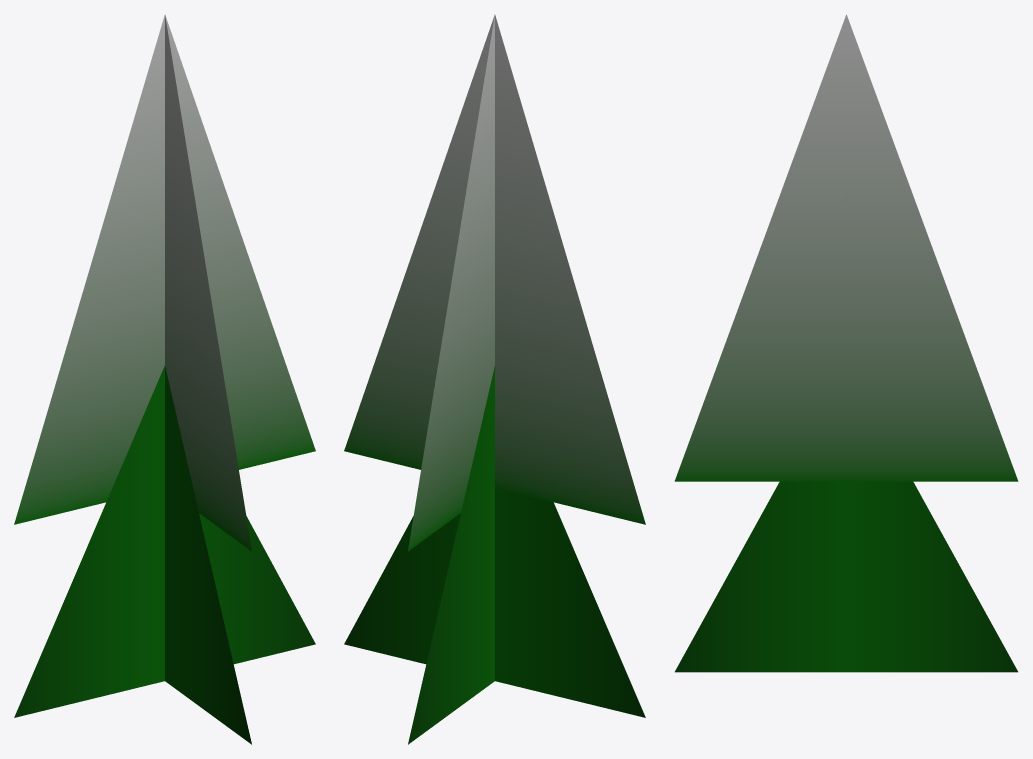
File: Tree.fbx
3 renders of one model, left to right at view 1: azimuth 30°, elevation 25°; view 2: azimuth 150°, elevation 25°; view 3: azimuth 270°, elevation 25°, orthographic.
Parts seen in each view (by area): view 1: Tree, Tree_Trunk; view 2: Tree, Tree_Trunk; view 3: Tree, Tree_Trunk.
Boxes of the visible parts, bbox=[...] form: Tree: bbox=[14, 14, 315, 551]; Tree_Trunk: bbox=[14, 366, 315, 744]; Tree: bbox=[344, 14, 645, 551]; Tree_Trunk: bbox=[344, 366, 645, 744]; Tree: bbox=[674, 14, 1018, 481]; Tree_Trunk: bbox=[675, 481, 1017, 672].
Size of the model in its own units: 232 by 490 by 232.
